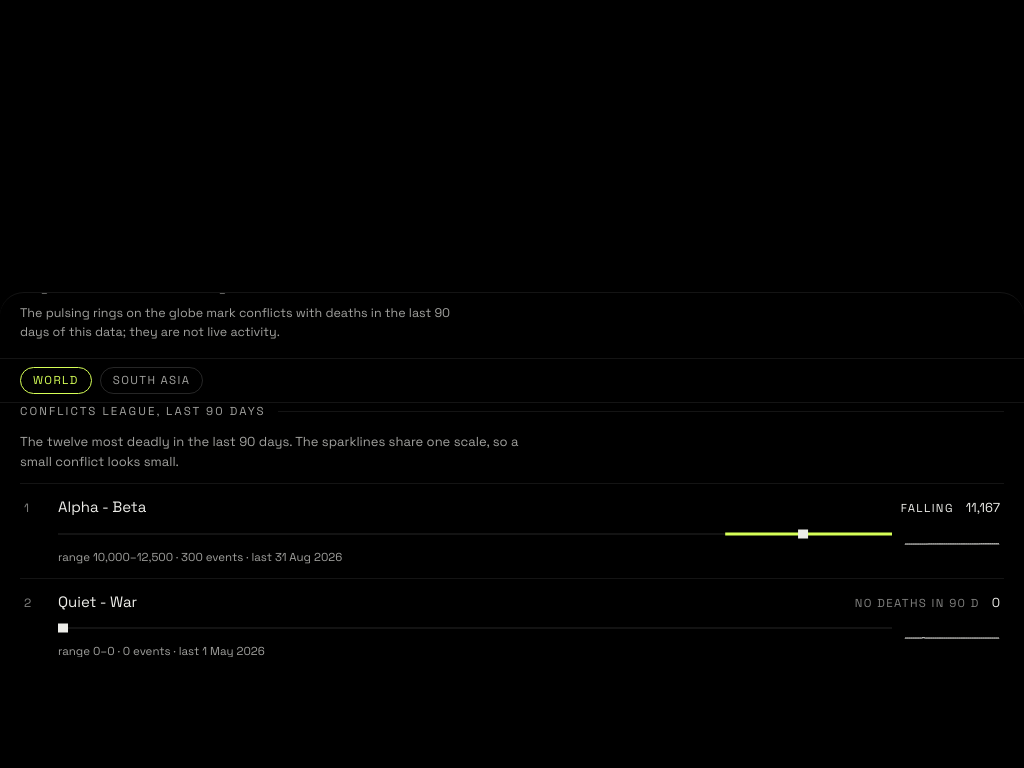
Test: War room: selection and focus › moves focus to the conflict heading when one opens, and back to its row on Back
(page scrolled)
Check: the list named "conflicts league" is shown, box [20,483,1004,657]
Click the button "Alpha - Beta": (512, 530) [20,483,1004,578]
(page scrolled)
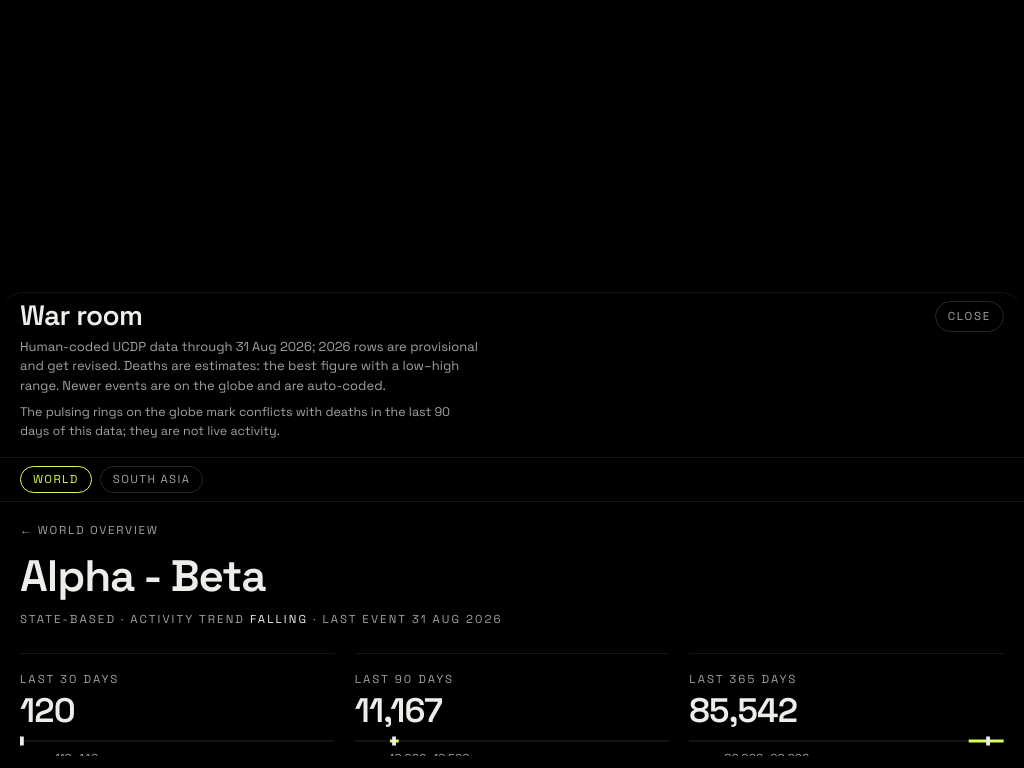
Check: the heading "Alpha - Beta" is shown, box [20,548,266,604]
Click the button "← World overview": (89, 531) [20,522,158,539]
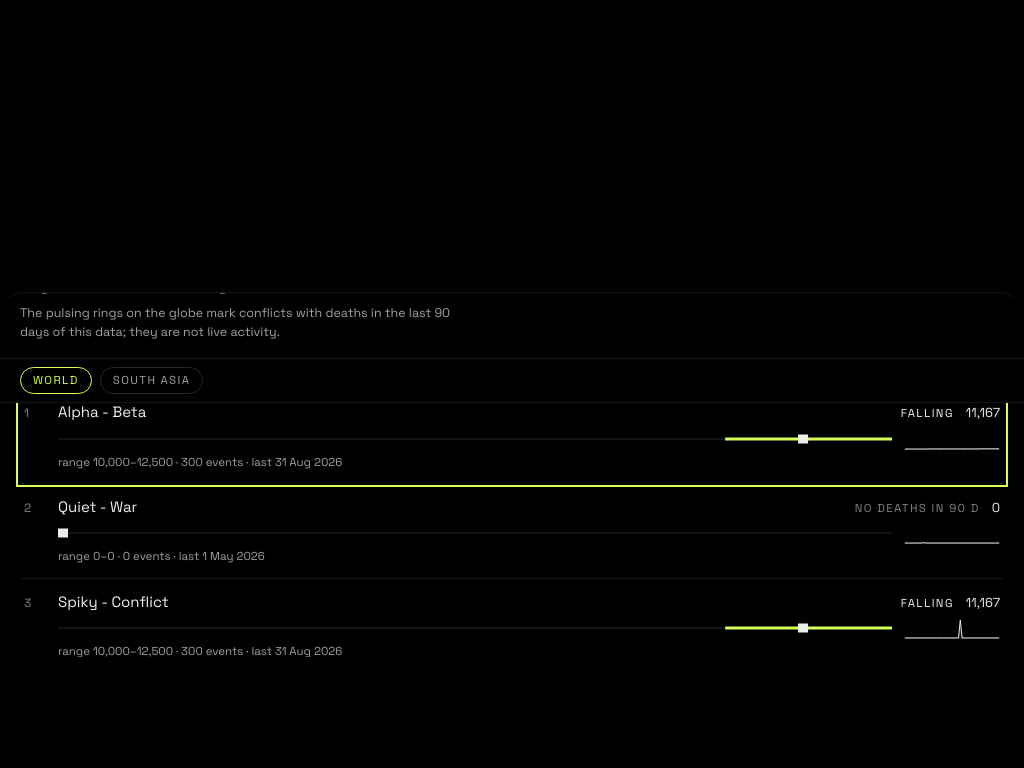
Check: the list named "conflicts league" is shown, box [20,403,1004,657]
